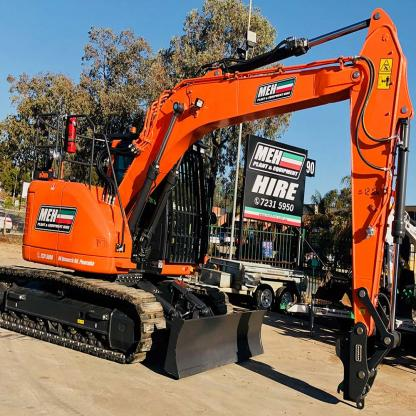excavator: (20, 22, 413, 409)
